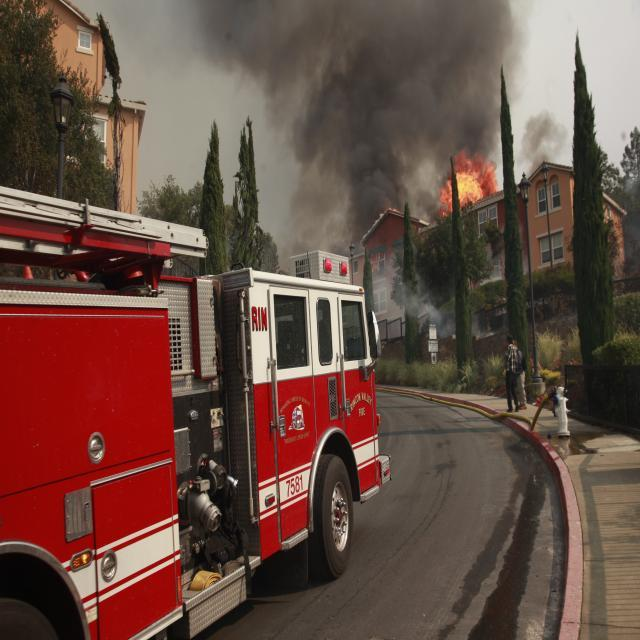Fire: (438, 151, 502, 217)
Smoke: (192, 0, 524, 144), (293, 146, 432, 304)
